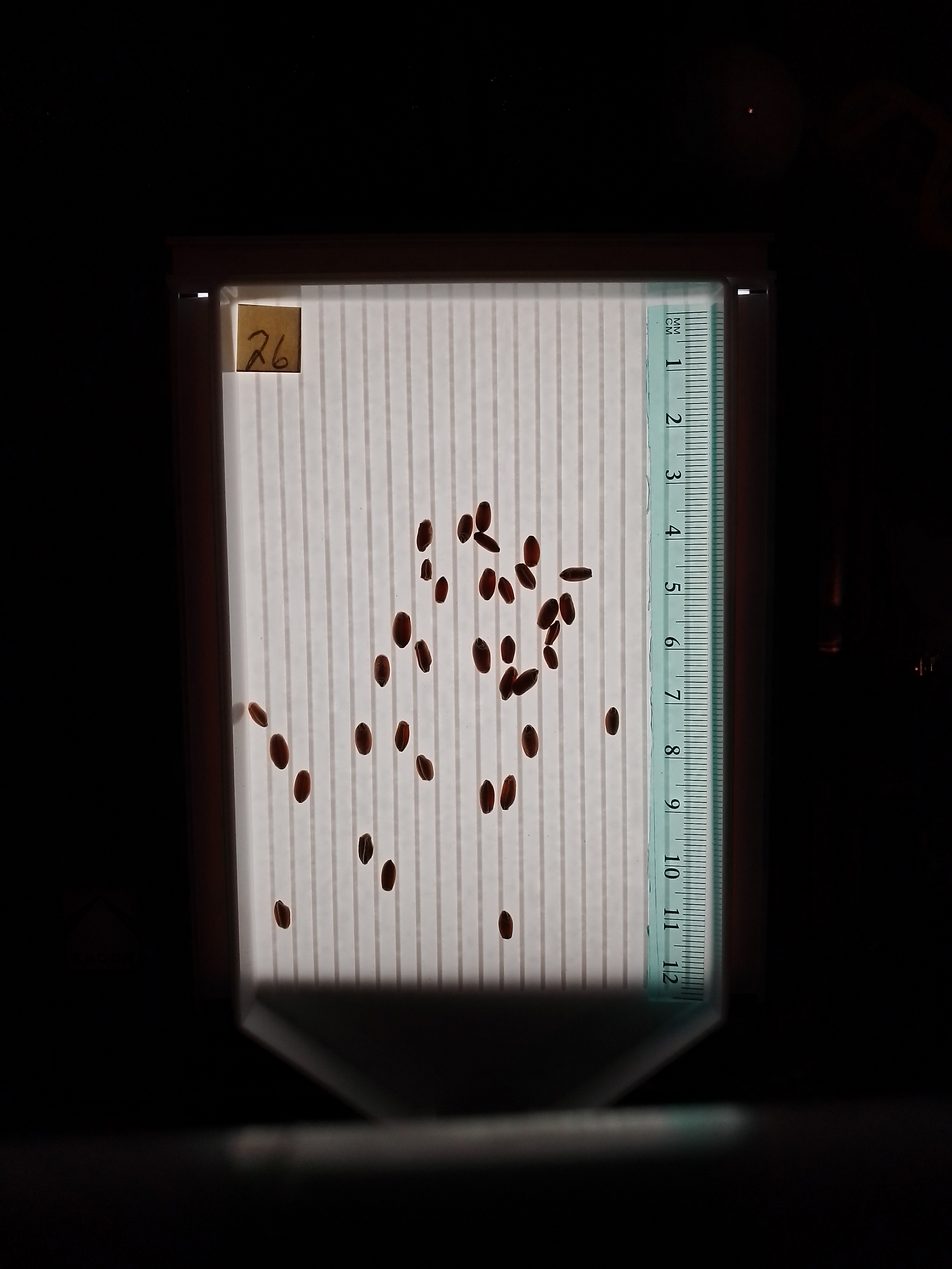seed mask: (269, 734, 289, 769), (393, 613, 412, 647), (538, 599, 558, 630), (473, 639, 491, 673), (513, 670, 537, 695), (521, 725, 539, 758), (500, 776, 517, 810), (561, 566, 592, 583), (294, 771, 311, 802), (355, 723, 372, 754), (499, 669, 516, 699), (475, 532, 499, 553), (524, 536, 540, 567), (374, 656, 390, 687), (516, 564, 535, 590), (479, 569, 495, 599), (248, 703, 268, 727), (357, 834, 373, 864), (416, 640, 431, 672), (274, 901, 291, 929), (480, 782, 495, 813), (417, 520, 432, 551), (559, 595, 575, 624), (417, 755, 434, 782), (476, 502, 491, 531), (381, 862, 396, 891), (395, 722, 410, 751), (458, 515, 473, 542), (605, 708, 620, 735), (499, 912, 513, 939), (499, 578, 514, 603), (501, 637, 515, 662), (545, 623, 560, 646), (435, 578, 448, 603), (544, 647, 558, 670), (420, 560, 431, 581)
